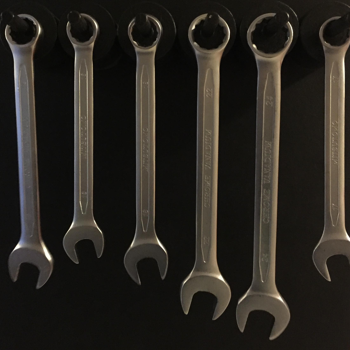bottom: (178, 266, 232, 323), (233, 288, 291, 341), (5, 240, 54, 291), (122, 239, 168, 286), (61, 220, 105, 265), (311, 234, 350, 283)
top: (246, 9, 294, 61), (187, 12, 233, 59), (3, 10, 43, 54), (125, 13, 164, 53), (64, 11, 101, 51), (317, 13, 350, 53)
